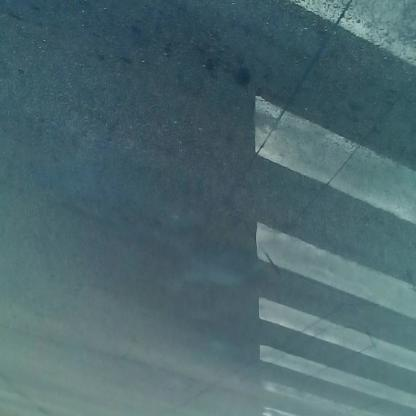crosswalk: (255, 13, 416, 410)
